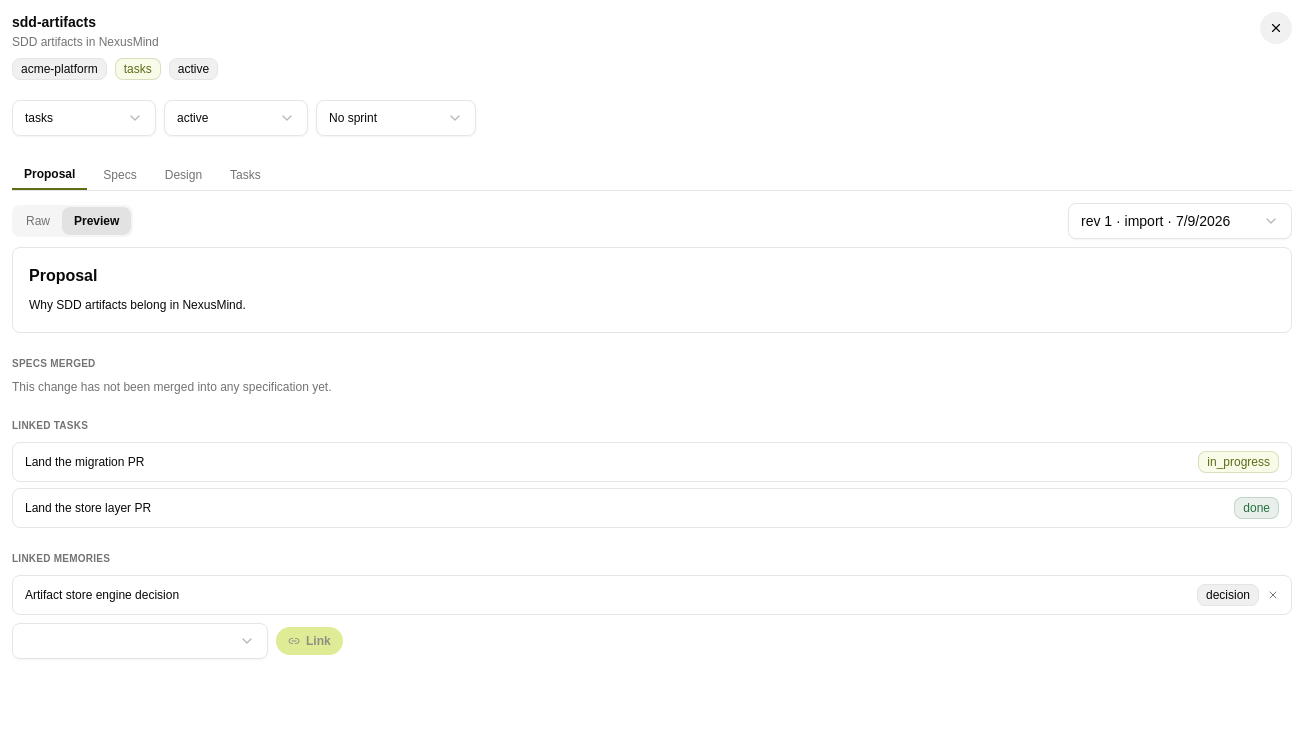
ChangeDetail — raw/preview toggle › change_detail_raw_preview_toggle_switches_between_source_and_render
The width and height of the screenshot is (1304, 732).
Check: the heading "Proposal" is shown, box [29,267,98,284]
Click the button "Raw": [38, 221] box [14,207,62,235]
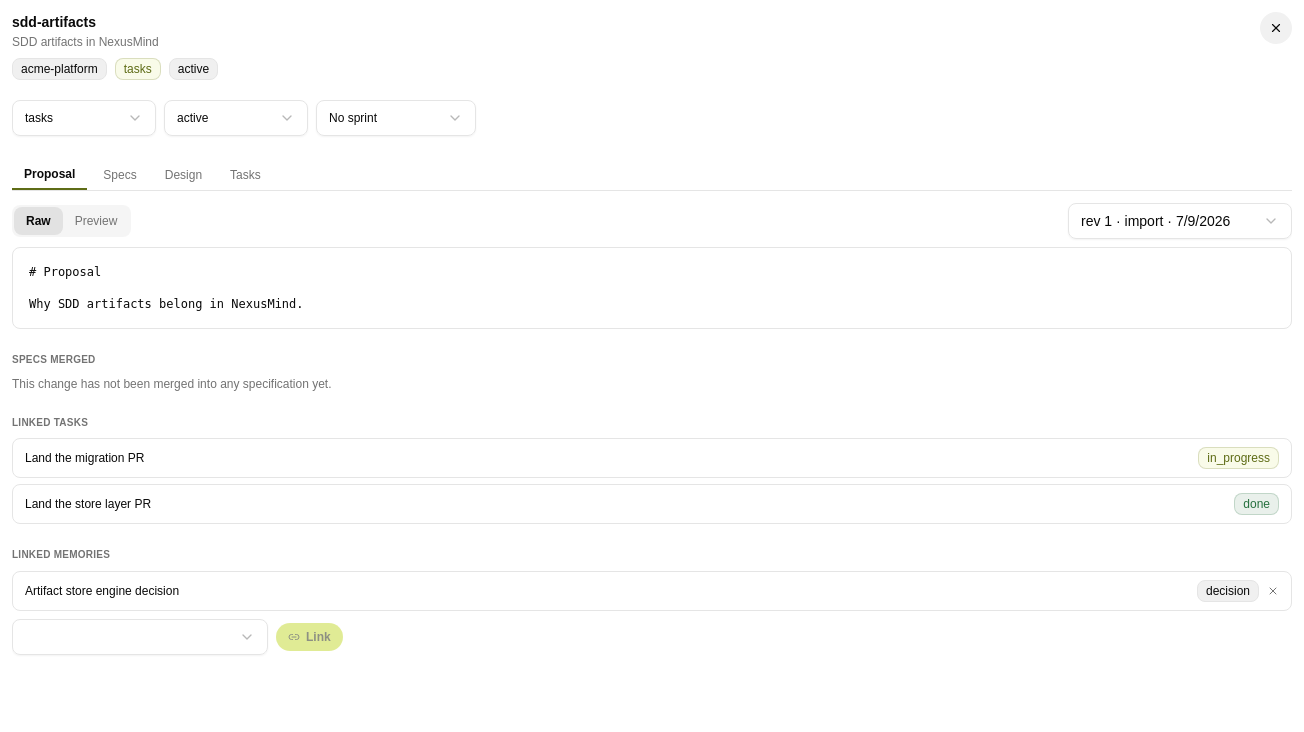
Check: the text with test id "artifact-raw" shows "# Proposal", box [29,265,304,311]
Click the button "Preview": [96, 221] box [63,207,129,235]
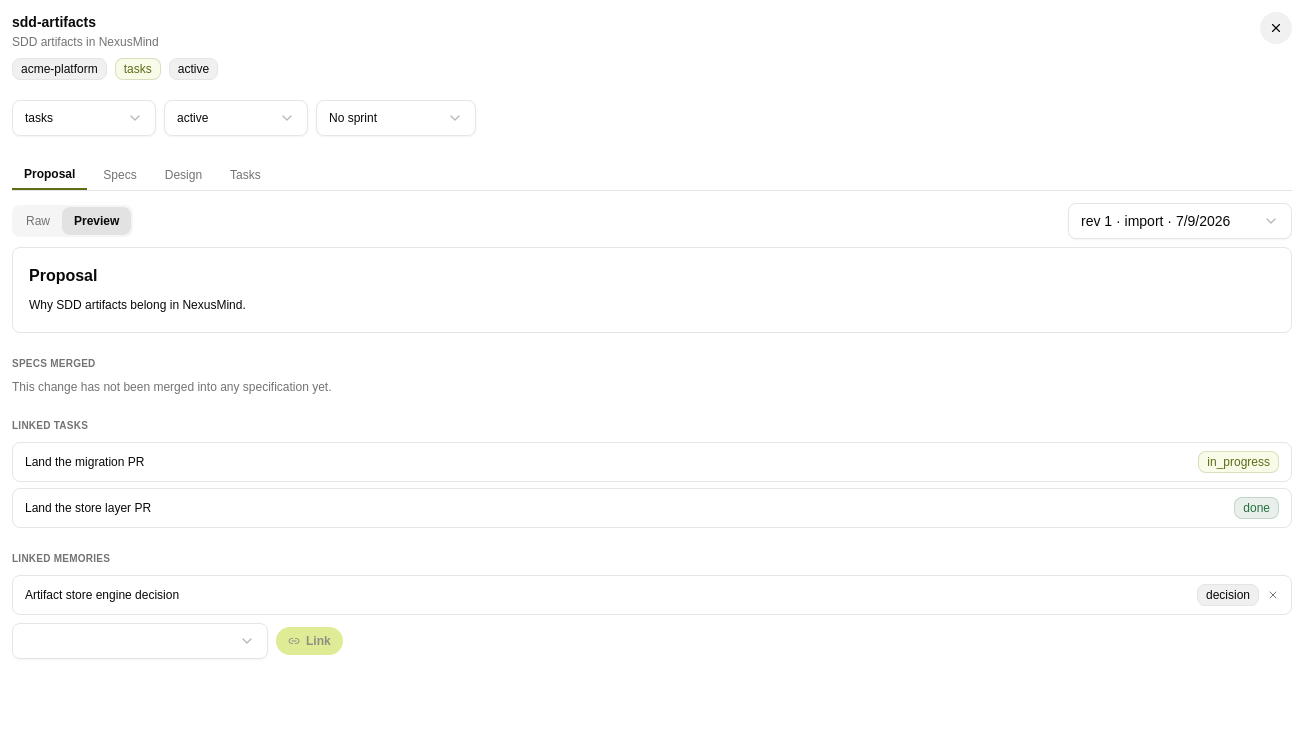
Check: the heading "Proposal" is shown, box [29,267,98,284]
Check: the text with test id "artifact-raw" is gone
